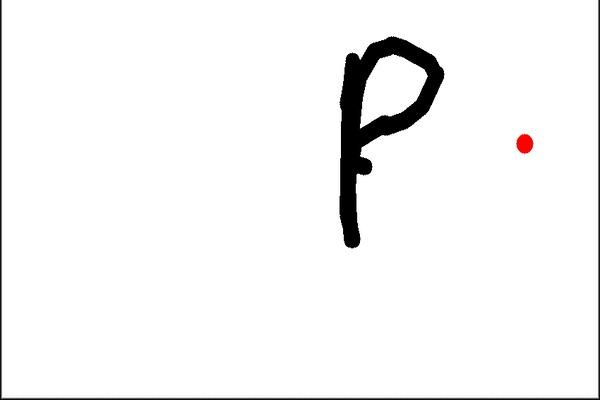P: (321, 24, 449, 254)
